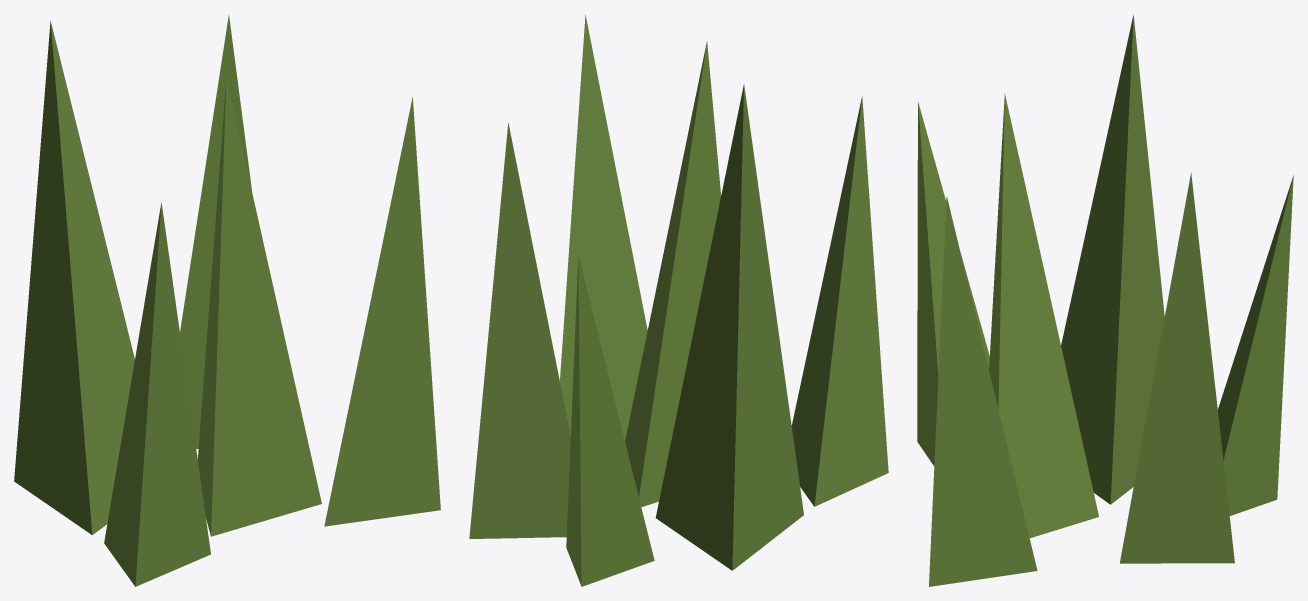
File: grass_1.fbx
The picture shows the model from 3 angles, left to right: view 1: azimuth 30°, elevation 25°; view 2: azimuth 150°, elevation 25°; view 3: azimuth 270°, elevation 25°; orthographic projection. The views are drawn at different scales.
Visible parts, largest first — view 1: Grass_01; view 2: Grass_01; view 3: Grass_01.
Boxes of the visible parts, x1,y1,x2,y2 form: Grass_01: [14, 15, 440, 586]; Grass_01: [469, 14, 888, 586]; Grass_01: [917, 14, 1293, 586].
Bounding box in the file's own units: 136 × 200 × 153.
1 material, 1 textured.
